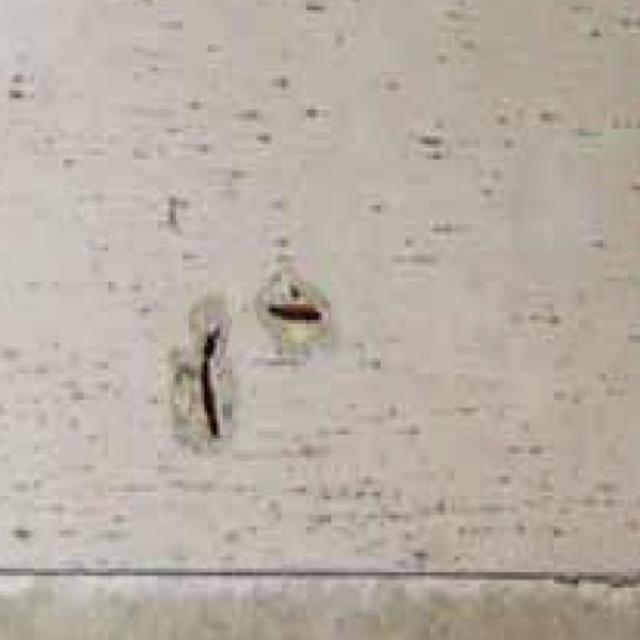spalling: (161, 266, 350, 447)
